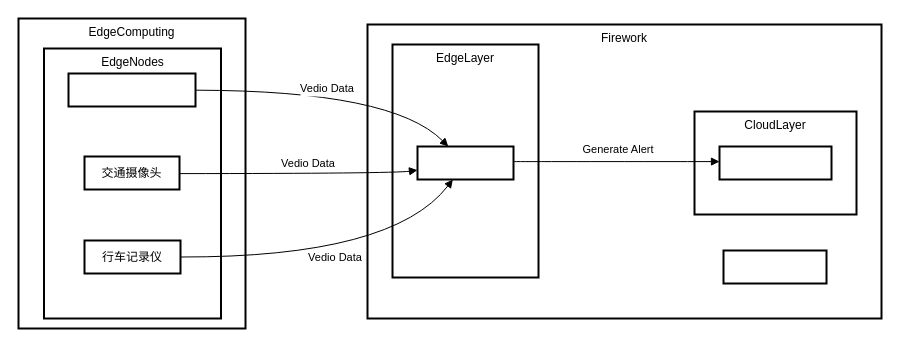
The diagram is 899 pixels wide and 346 high, and some of its shapes have lost their labels. The shapes that lost their labels are listed below. From the top down, each one's centre as x and y in pixels, then its label:
the point at 131,89: 治安监控摄像头
the point at 465,162: 警报生成器
the point at 775,162: 安珀警报服务
the point at 774,266: DeviceLayer
